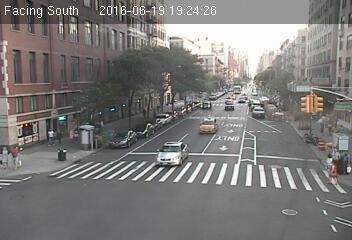neg: (80, 189, 102, 217), (73, 24, 93, 51), (15, 74, 35, 101), (103, 147, 122, 173), (34, 180, 53, 205), (43, 56, 61, 80), (236, 27, 253, 51), (289, 25, 305, 46), (15, 18, 31, 39), (138, 198, 153, 219), (95, 63, 110, 83), (186, 36, 200, 56), (243, 135, 257, 154), (285, 121, 299, 139), (238, 176, 250, 193), (201, 171, 212, 186), (140, 36, 151, 51), (178, 123, 189, 137), (252, 108, 262, 122), (202, 126, 212, 139), (169, 148, 179, 161)
pos: (5, 143, 25, 170), (41, 125, 58, 148), (337, 147, 351, 174), (325, 161, 342, 183), (323, 154, 336, 171), (328, 146, 341, 162), (139, 107, 148, 118), (154, 104, 161, 114)
